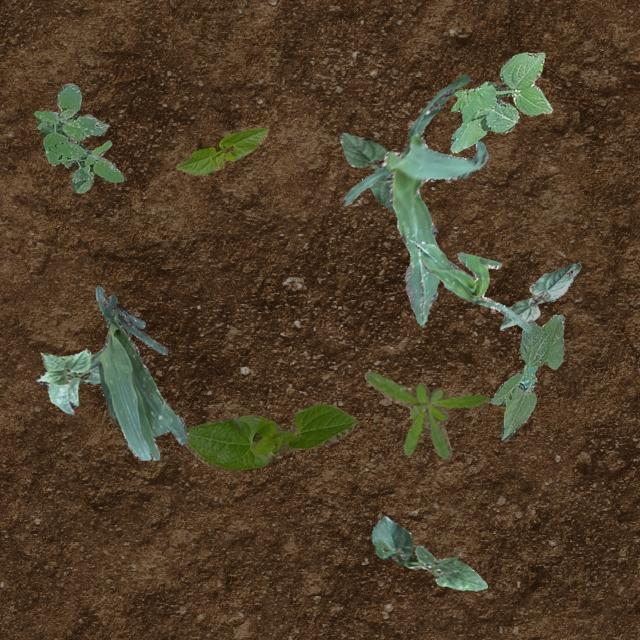crop: (342, 73, 488, 324), (94, 286, 188, 458), (185, 402, 356, 469), (412, 240, 530, 332), (489, 314, 564, 441), (372, 516, 486, 590), (498, 260, 580, 330), (338, 130, 394, 212), (174, 126, 266, 174), (36, 348, 102, 414)
weed: (364, 371, 488, 458), (448, 50, 552, 152), (32, 82, 122, 192)
